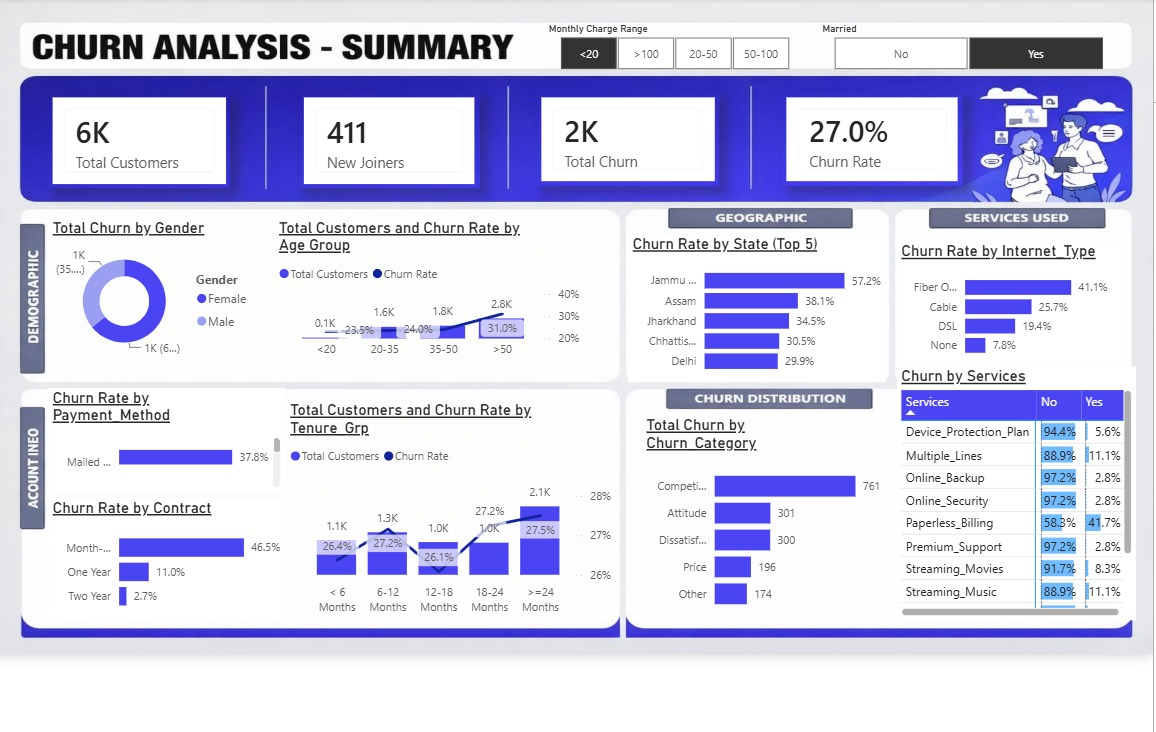

Layout of this report page (visuals, bound fields, positions):
{"tool":"powerbi","page":{"name":"Summary","canvas":[1280,720],"ordinal":0},"visuals":[{"type":"cardVisual","fields":{"Data":["tbl_Measure.New Joiners"]},"box":[342.5,103.8,197.5,105],"z":0},{"type":"cardVisual","fields":{"Data":["tbl_Measure.Total Churn"]},"box":[603.8,103.8,200,102.5],"z":1000},{"type":"cardVisual","fields":{"Data":["tbl_Measure.Churn Rate"]},"box":[872.5,103.8,198.8,102.5],"z":2000},{"type":"donutChart","fields":{"Category":["prod_Churn.Gender"],"Y":["tbl_Measure.Total Churn"]},"box":[67.2,241.5,233.3,161.9],"z":3000},{"type":"lineStackedColumnComboChart","fields":{"Category":["Mapping_AgeGrp.Age Group"],"Y":["tbl_Measure.Total Customers"],"Y2":["tbl_Measure.Churn Rate"]},"box":[315,241.2,340,162.5],"z":4000},{"type":"clusteredBarChart","fields":{"Category":["prod_Churn.Payment_Method"],"Y":["tbl_Measure.Churn Rate"]},"box":[67.5,428.8,260,113.8],"z":5000},{"type":"clusteredBarChart","fields":{"Category":["prod_Churn.Contract"],"Y":["tbl_Measure.Churn Rate"]},"box":[67.5,548.8,260,135],"z":6000},{"type":"lineStackedColumnComboChart","fields":{"Category":["Mapping_TenureGrp.Tenure_Grp"],"Y":["tbl_Measure.Total Customers"],"Y2":["tbl_Measure.Churn Rate"]},"box":[327.5,441.2,362.5,242.5],"z":7000},{"type":"clusteredBarChart","title":"Churn Rate by State (Top 5)","fields":{"Category":["prod_Churn.State"],"Y":["tbl_Measure.Churn Rate"]},"box":[703.8,258.8,282.5,162.5],"z":8000},{"type":"clusteredBarChart","fields":{"Category":["prod_Churn.Churn_Category"],"Y":["tbl_Measure.Total Churn"]},"box":[718.8,458.8,267.5,225],"z":9000},{"type":"clusteredBarChart","fields":{"Category":["prod_Churn.Internet_Type"],"Y":["tbl_Measure.Churn Rate"]},"box":[998.8,267.5,250,136.2],"z":10000},{"type":"pivotTable","title":"Churn by Services","fields":{"Rows":["prod_Services.Services"],"Columns":["prod_Services.Status"],"Values":["Sum(prod_Services.Churn Status)"]},"box":[998.8,405,262.5,278.8],"z":11000},{"type":"slicer","fields":{"Values":["prod_Services.Monthly Charge Status"]},"box":[603.8,22,300.5,63.1],"z":12000},{"type":"slicer","fields":{"Values":["prod_Services.Married"]},"box":[904.3,22,344.4,63.1],"z":13000},{"type":"cardVisual","fields":{"Data":["tbl_Measure.Total Customers"]},"box":[67.5,103.8,200,105],"z":14000}]}

Visuals, with their boxes on the page's 1280x720 design canvas (x1, y1, x2, y2). These are canvas units, not pixel positions in the 1156x732 screenshot, which may show the page scaled, cropped or inside an application window:
cardVisual - tbl_Measure.New Joiners: <box>342,104,540,209</box>
cardVisual - tbl_Measure.Total Churn: <box>604,104,804,206</box>
cardVisual - tbl_Measure.Churn Rate: <box>872,104,1071,206</box>
donutChart - prod_Churn.Gender x tbl_Measure.Total Churn: <box>67,242,300,403</box>
lineStackedColumnComboChart - Mapping_AgeGrp.Age Group x tbl_Measure.Total Customers: <box>315,241,655,404</box>
clusteredBarChart - prod_Churn.Payment_Method x tbl_Measure.Churn Rate: <box>68,429,328,543</box>
clusteredBarChart - prod_Churn.Contract x tbl_Measure.Churn Rate: <box>68,549,328,684</box>
lineStackedColumnComboChart - Mapping_TenureGrp.Tenure_Grp x tbl_Measure.Total Customers: <box>328,441,690,684</box>
"Churn Rate by State (Top 5)" clusteredBarChart: <box>704,259,986,421</box>
clusteredBarChart - prod_Churn.Churn_Category x tbl_Measure.Total Churn: <box>719,459,986,684</box>
clusteredBarChart - prod_Churn.Internet_Type x tbl_Measure.Churn Rate: <box>999,268,1249,404</box>
"Churn by Services" pivotTable: <box>999,405,1261,684</box>
slicer - prod_Services.Monthly Charge Status: <box>604,22,904,85</box>
slicer - prod_Services.Married: <box>904,22,1249,85</box>
cardVisual - tbl_Measure.Total Customers: <box>68,104,268,209</box>
